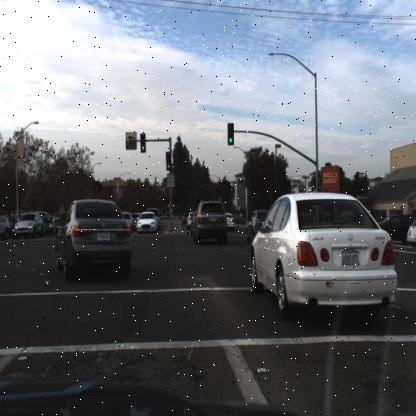car: (252, 184, 400, 326), (64, 196, 128, 278), (241, 200, 286, 253), (193, 194, 228, 249), (376, 200, 410, 247), (11, 212, 44, 238), (136, 210, 162, 234), (224, 205, 236, 235), (190, 206, 198, 238), (186, 208, 194, 231), (181, 204, 187, 228)
trafficLight-Green: (316, 170, 324, 198), (228, 122, 235, 144), (166, 152, 173, 171), (318, 180, 323, 195)
trafficLight-GreenLeft: (163, 146, 175, 179), (140, 135, 147, 153)
